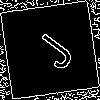J: (25, 25, 77, 73)
